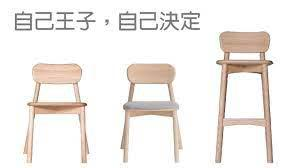chair: (18, 49, 195, 162)
